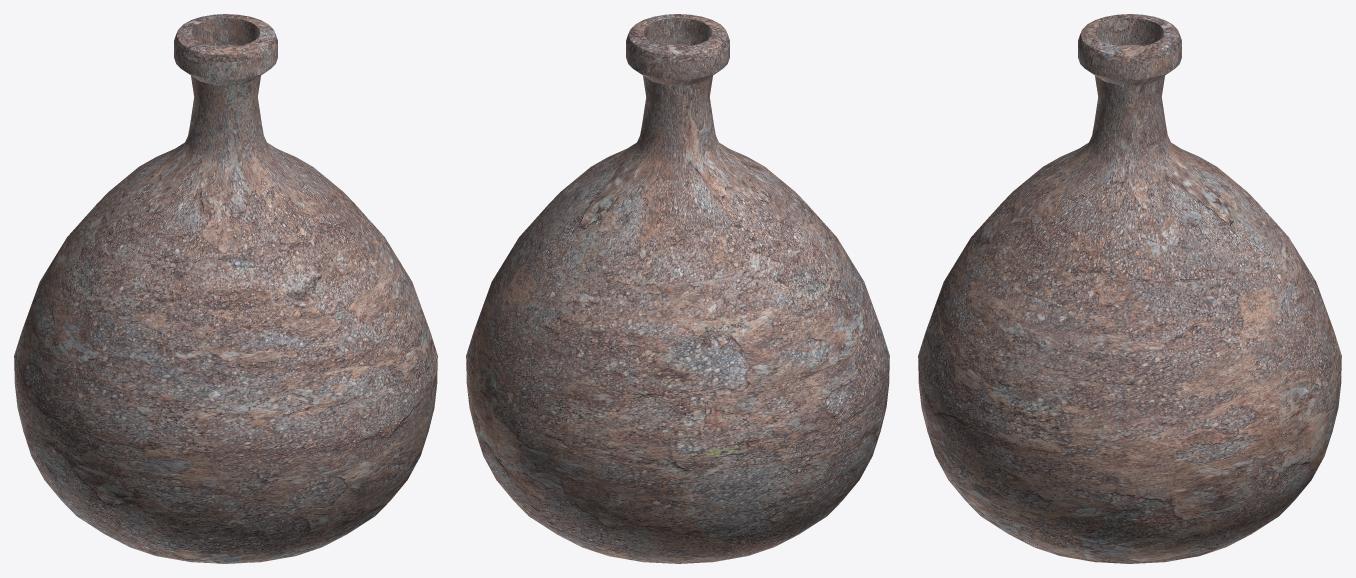
Rendered from pot-1.fbx.
3 views of the same model, side by side, from view 1: azimuth 30°, elevation 25°; view 2: azimuth 150°, elevation 25°; view 3: azimuth 270°, elevation 25° (orthographic).
Visible parts, largest first — view 1: Mesh; view 2: Mesh; view 3: Mesh.
Boxes of the visible parts, box(x1,y1,x2,y2) form: Mesh: box(14, 14, 437, 563); Mesh: box(466, 14, 889, 563); Mesh: box(918, 14, 1341, 563).
Size of the model in its own units: 46.34 by 57.2 by 46.34.
